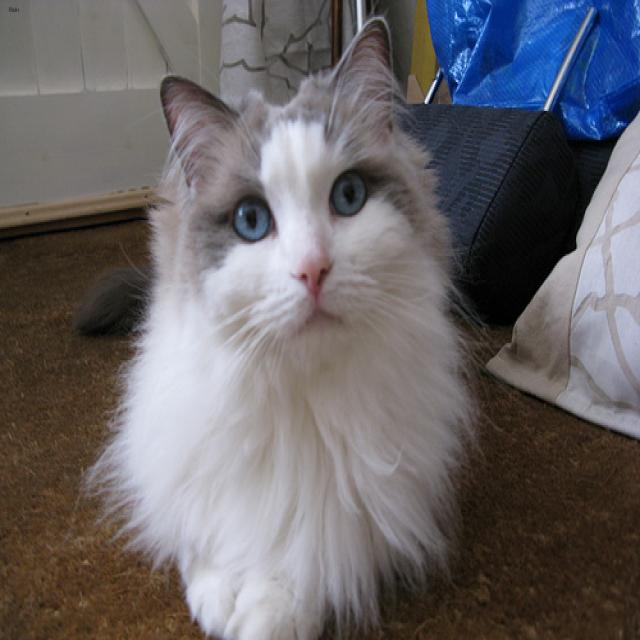cat: (158, 14, 392, 358)
